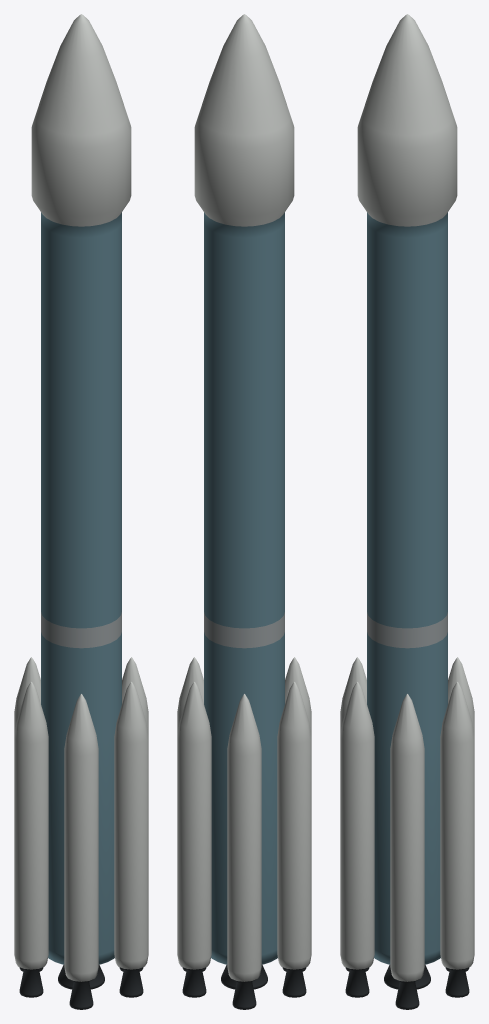
The model's file is A-NEW-20261027-SPACE_ROCKET-001_LOD2_R1.glb.
The picture shows the model from 3 angles, left to right: view 1: azimuth 30°, elevation 25°; view 2: azimuth 150°, elevation 25°; view 3: azimuth 330°, elevation 25°; orthographic projection.
Parts seen in each view (by area): view 1: original launch rocket core and fairing, original static external booster 3, original static external booster 5, original static external booster 4, original static external booster 0, original static external booster 2; view 2: original launch rocket core and fairing, original static external booster 1, original static external booster 3, original static external booster 2, original static external booster 0, original static external booster 4; view 3: original launch rocket core and fairing, original static external booster 0, original static external booster 4, original static external booster 5, original static external booster 1, original static external booster 3.
Boxes of the visible parts, x1,y1,x2,y2 form: original launch rocket core and fairing: [31, 14, 131, 989]; original static external booster 3: [14, 682, 48, 997]; original static external booster 5: [114, 682, 148, 997]; original static external booster 4: [64, 694, 98, 1009]; original static external booster 0: [119, 657, 148, 971]; original static external booster 2: [14, 657, 43, 971]; original launch rocket core and fairing: [194, 14, 294, 989]; original static external booster 1: [177, 682, 211, 997]; original static external booster 3: [277, 682, 311, 997]; original static external booster 2: [227, 694, 261, 1009]; original static external booster 0: [177, 657, 206, 971]; original static external booster 4: [282, 657, 311, 971]; original launch rocket core and fairing: [357, 14, 457, 989]; original static external booster 0: [440, 682, 474, 997]; original static external booster 4: [340, 682, 374, 997]; original static external booster 5: [390, 694, 424, 1009]; original static external booster 1: [445, 657, 474, 971]; original static external booster 3: [340, 657, 369, 971].
Bounding box in the file's own units: 0.48 × 3.42 × 0.4304.
